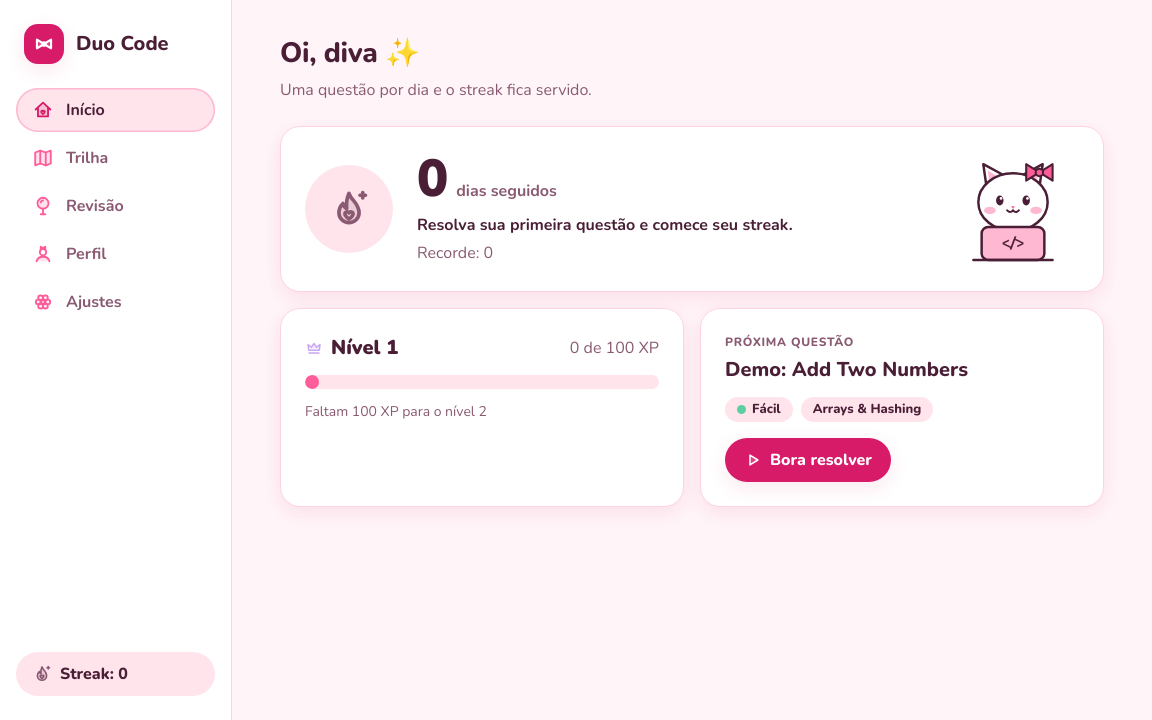
Scenario: Ajustes do lembrete (005 RF-6) › restaura o que foi salvo
Click the link "Ajustes" at [77, 302], box [32,291,122,313]
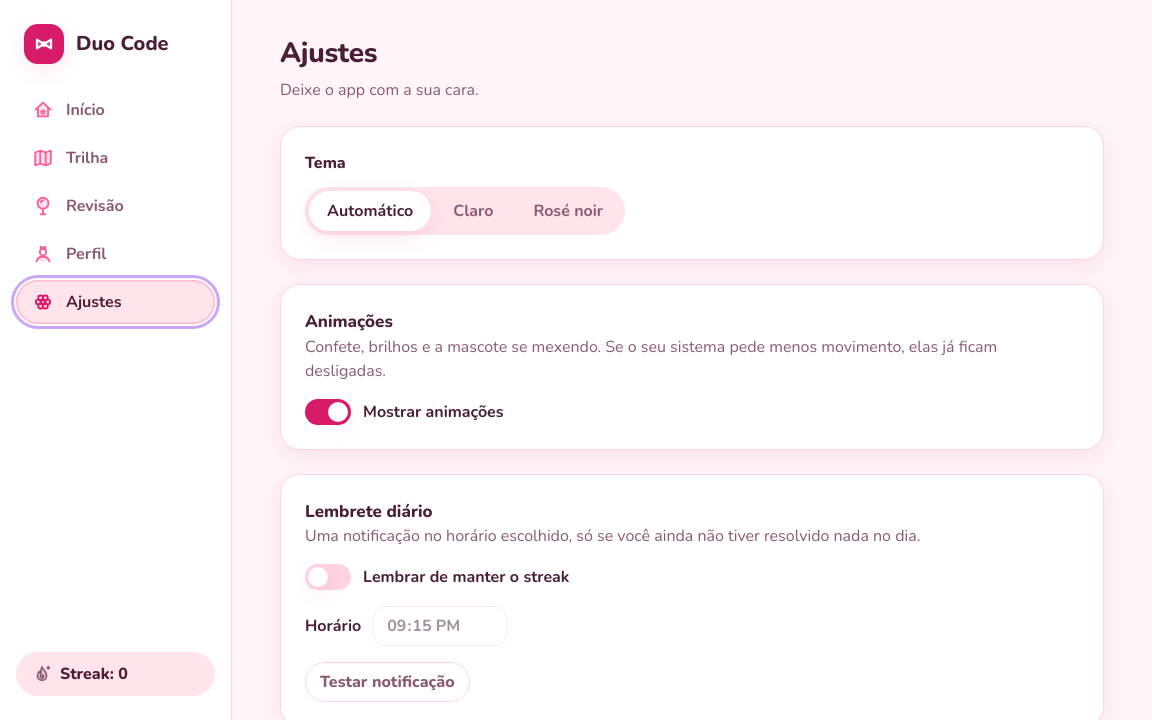
Result: the switch labelled "Lembrar de manter o streak" is not checked at [305,564,569,590]
Result: the time field labelled "Horário" holds "21:15" at [373,606,507,646]
